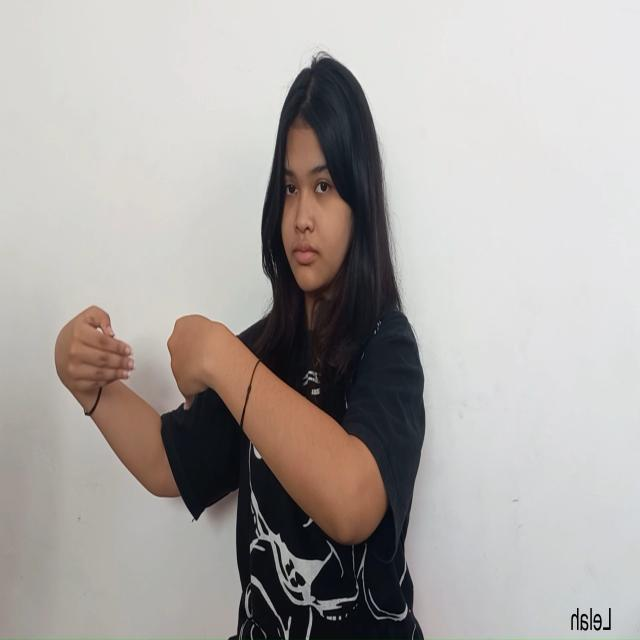Lelah -BISINDO-: (53, 302, 229, 422)
